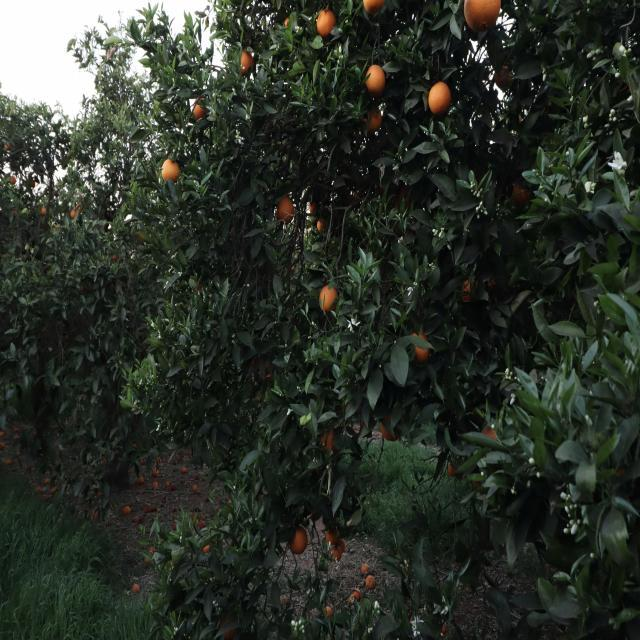Bunga: (608, 150, 628, 176), (346, 318, 360, 330), (478, 200, 488, 216), (586, 49, 600, 60), (564, 519, 574, 533), (411, 616, 424, 626), (585, 182, 595, 194), (609, 109, 617, 123), (298, 620, 306, 634), (585, 414, 593, 427), (560, 491, 570, 501), (620, 47, 632, 55), (571, 523, 578, 536), (505, 368, 513, 379), (290, 619, 298, 630), (406, 286, 414, 296), (441, 606, 449, 616), (433, 603, 439, 616), (528, 458, 536, 467), (374, 600, 380, 612), (564, 506, 571, 516), (412, 628, 420, 636), (510, 393, 515, 405), (438, 228, 444, 237), (432, 228, 438, 236), (470, 190, 478, 196), (476, 206, 480, 218), (446, 242, 452, 250), (511, 486, 517, 494), (477, 188, 482, 197), (195, 138, 200, 147), (368, 626, 373, 635), (470, 182, 476, 188), (570, 504, 577, 509), (594, 300, 598, 308), (236, 130, 240, 138), (184, 148, 188, 156), (536, 472, 541, 478), (246, 114, 250, 120), (177, 151, 180, 158), (238, 139, 242, 144), (184, 142, 188, 147), (597, 308, 600, 314), (212, 144, 216, 148), (190, 142, 194, 146), (240, 136, 243, 140), (172, 148, 175, 152), (194, 180, 197, 184), (203, 296, 206, 300), (188, 137, 190, 142), (189, 222, 191, 227), (236, 138, 239, 141), (198, 167, 201, 170), (177, 213, 180, 216), (178, 146, 180, 150), (174, 224, 176, 228), (212, 208, 214, 211), (180, 210, 182, 213), (194, 228, 197, 230), (205, 288, 208, 290), (199, 185, 201, 187), (196, 190, 198, 192), (203, 298, 204, 302), (196, 185, 197, 187)
Jeruk Sudah Matang: (464, 0, 501, 31), (428, 81, 452, 116), (366, 64, 386, 92), (412, 332, 431, 361), (316, 10, 336, 37), (319, 285, 338, 313), (380, 416, 400, 442), (290, 527, 308, 554), (276, 198, 294, 224), (493, 65, 511, 91), (364, 108, 382, 134), (162, 160, 180, 183), (321, 428, 336, 454), (462, 278, 478, 301), (192, 98, 207, 120), (363, 0, 385, 15), (240, 50, 253, 73), (513, 184, 531, 200), (326, 528, 338, 547), (482, 425, 497, 440), (330, 546, 342, 561), (316, 218, 325, 232), (192, 282, 202, 294), (338, 538, 346, 552), (448, 464, 456, 476), (308, 202, 316, 213), (70, 209, 78, 218), (8, 176, 16, 184), (284, 18, 290, 28), (40, 207, 46, 216), (76, 204, 82, 212), (30, 180, 36, 188), (54, 190, 60, 197), (4, 143, 10, 149), (114, 254, 118, 262), (78, 195, 82, 200)
